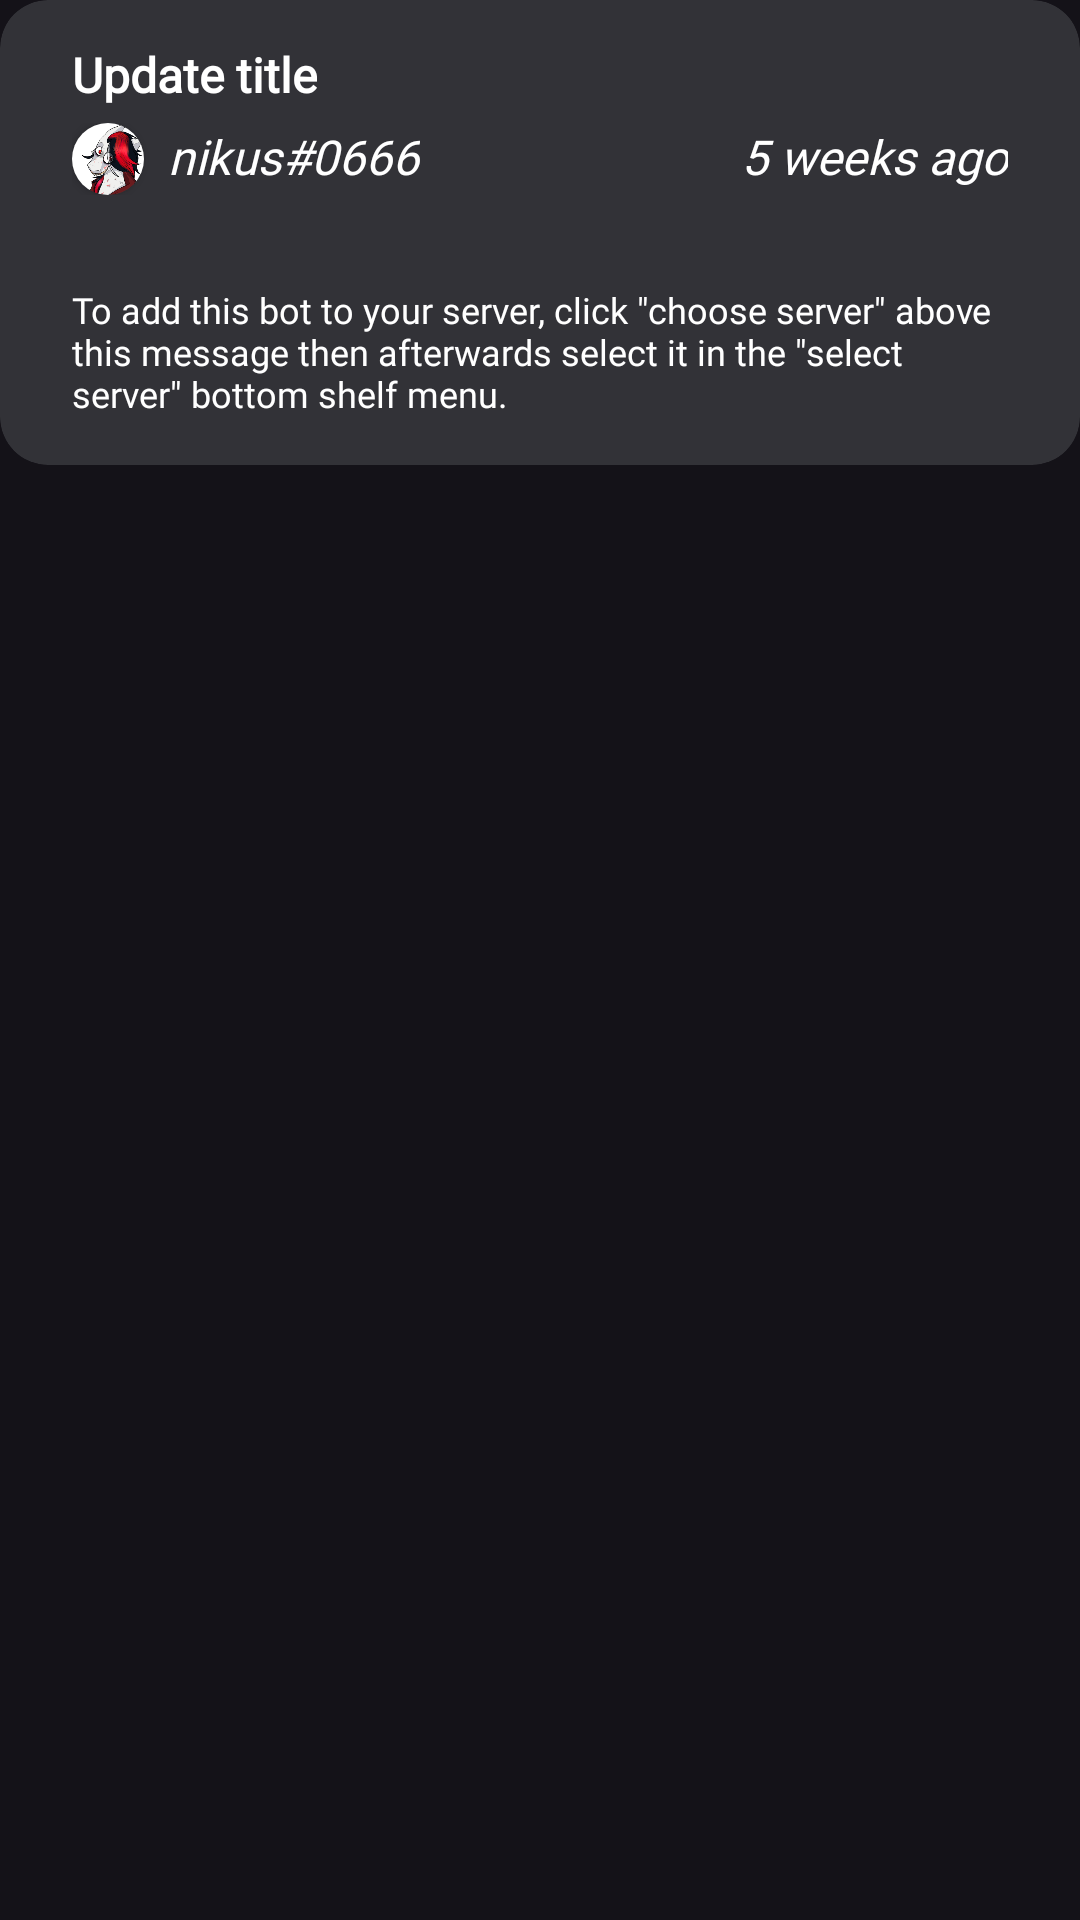

Icon click points for this 1080×1920 phone screenshot, format point (x, y):
profile: point (108, 159)
